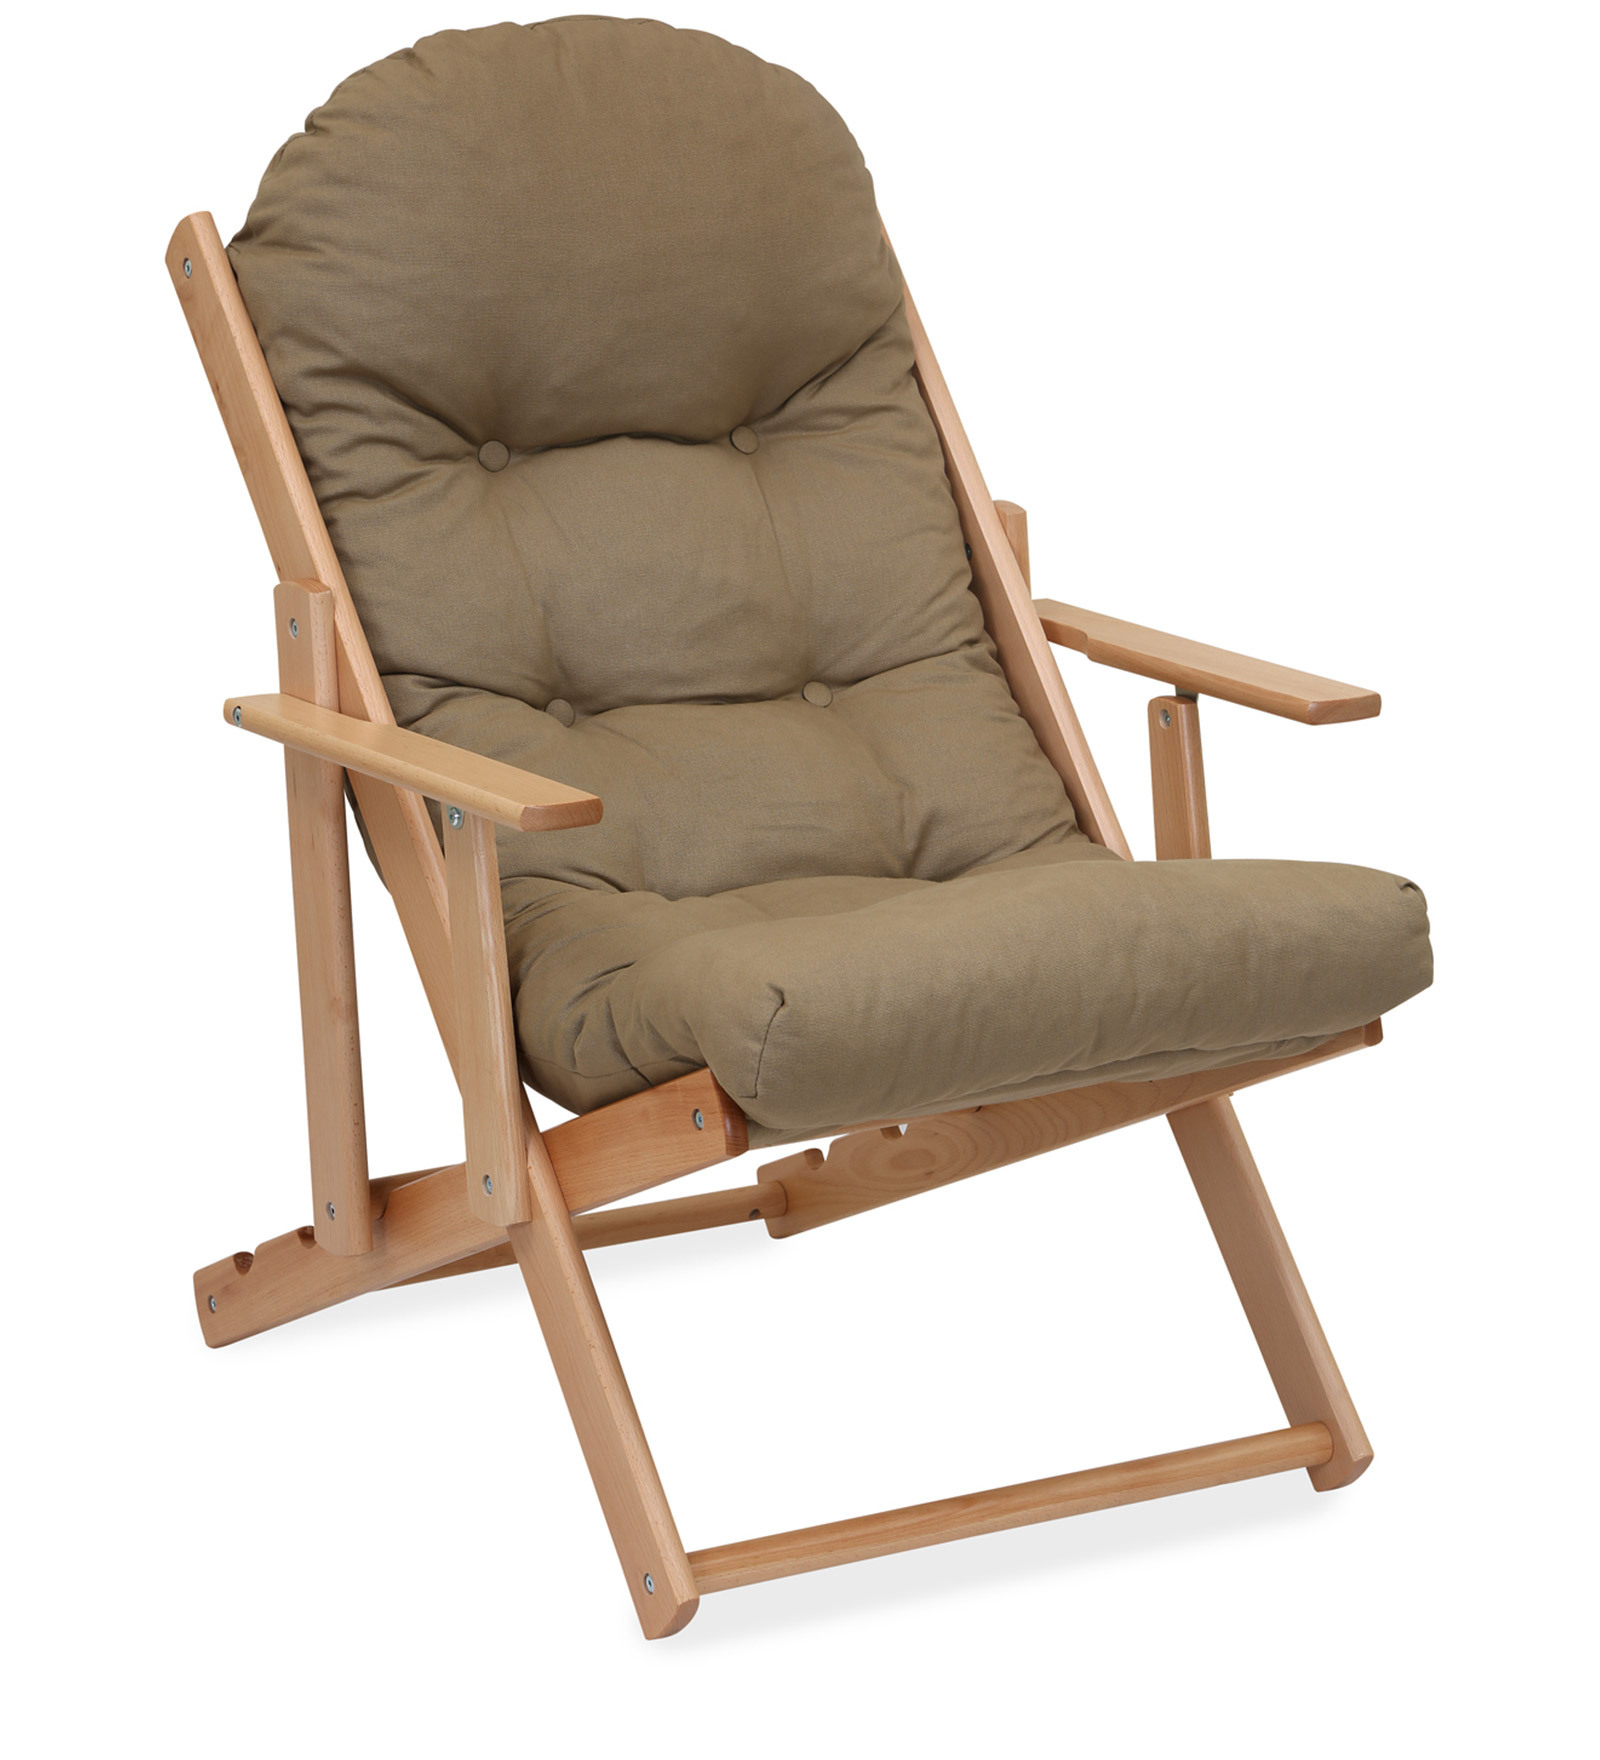Mazda Leisure Folding Chair in Light Brown Colour by @ Home: (144, 17, 1438, 1634)
